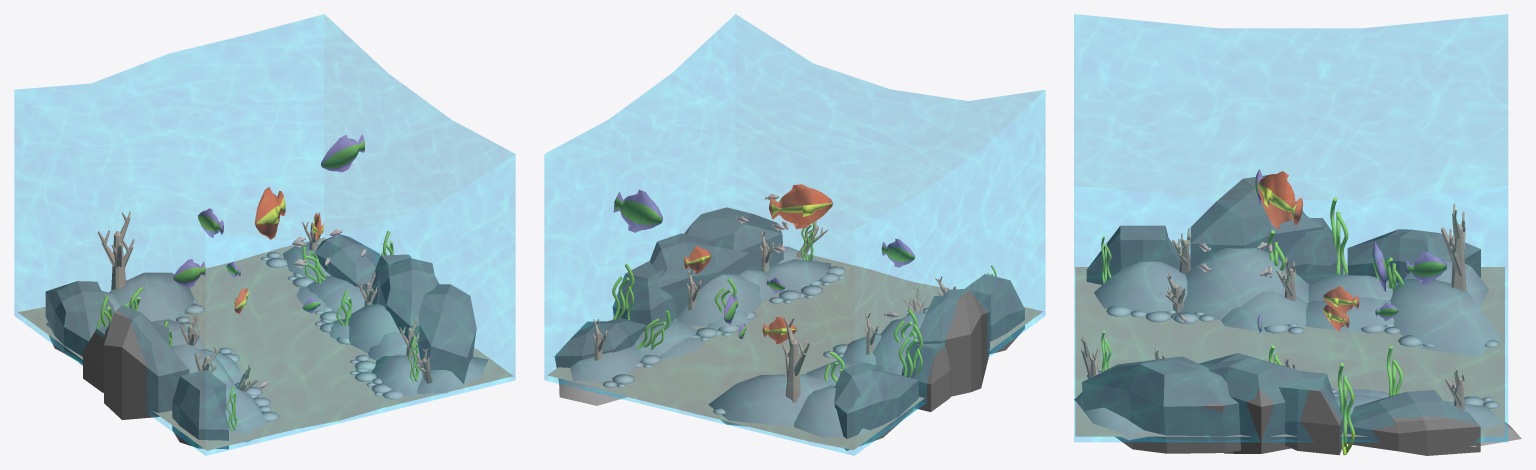
File: underwater_lowpoly_scene.glb
The picture shows the model from 3 angles, left to right: view 1: azimuth 30°, elevation 25°; view 2: azimuth 150°, elevation 25°; view 3: azimuth 270°, elevation 25°; orthographic projection. The views are drawn at different scales.
Parts seen in each view (by area): view 1: Object_5, Object_4, Object_16, Object_3, Object_13, Object_23, Object_6, Object_15, Object_11, Object_7, Object_20, Object_8; view 2: Object_5, Object_4, Object_16, Object_3, Object_13, Object_23, Object_6, Object_20, Object_7, Object_15, Object_11, Object_8; view 3: Object_5, Object_4, Object_16, Object_13, Object_3, Object_23, Object_6, Object_20, Object_7, Object_8, Object_11, Object_15 (+2 smaller).
Part boxes in pixels (x1,y1,x2,y2): Object_5: (14,90,515,455); Object_4: (15,14,514,240); Object_16: (45,234,476,449); Object_3: (18,237,513,450); Object_13: (46,242,492,442); Object_23: (97,211,432,391); Object_6: (175,252,404,421); Object_15: (174,144,359,310); Object_11: (173,135,364,312); Object_7: (95,232,419,389); Object_20: (234,187,321,313); Object_8: (135,231,393,431); Object_5: (544,90,1045,455); Object_4: (546,14,1044,228); Object_16: (554,207,1024,450); Object_3: (547,254,1042,450); Object_13: (559,246,926,437); Object_23: (593,220,955,402); Object_6: (602,266,928,414); Object_20: (684,184,832,340); Object_7: (612,222,993,409); Object_15: (620,201,914,337); Object_11: (613,189,914,338); Object_8: (617,264,996,357); Object_5: (1074,185,1507,441); Object_4: (1074,14,1507,199); Object_16: (1081,175,1480,455); Object_13: (1074,248,1521,446); Object_3: (1075,267,1504,436); Object_23: (1080,203,1466,409); Object_6: (1087,306,1499,408); Object_20: (1258,171,1359,328); Object_7: (1101,199,1403,453); Object_8: (1101,231,1389,454); Object_11: (1256,169,1447,332); Object_15: (1255,178,1446,328).
Bounding box in the file's own units: 19.66 × 13.97 × 20.29.
Materials: 15 (2 with a texture image).
